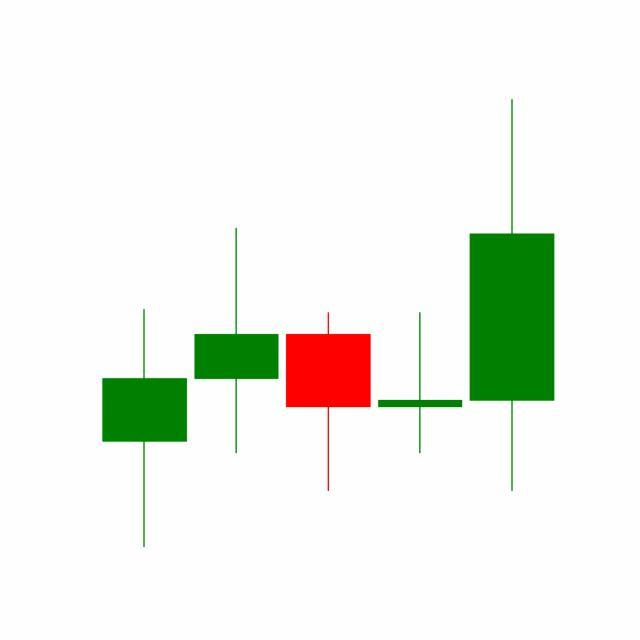Gravestone Doji: (374, 311, 468, 456)
